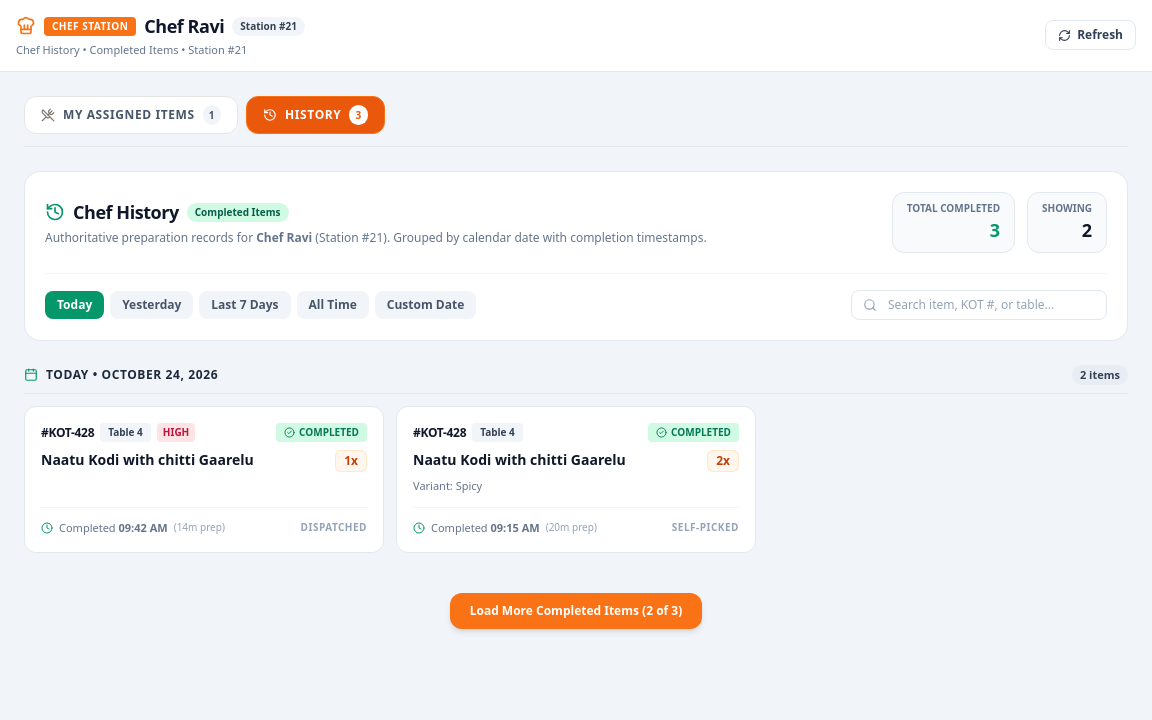
Test case: Chef Station — Date-Wise History Component Suite › displays empty state when no items match search
The width and height of the screenshot is (1152, 720).
In the field with test id "history-search-input": (979, 304) left=851, top=290, right=1107, bottom=320, type "NonExistent"
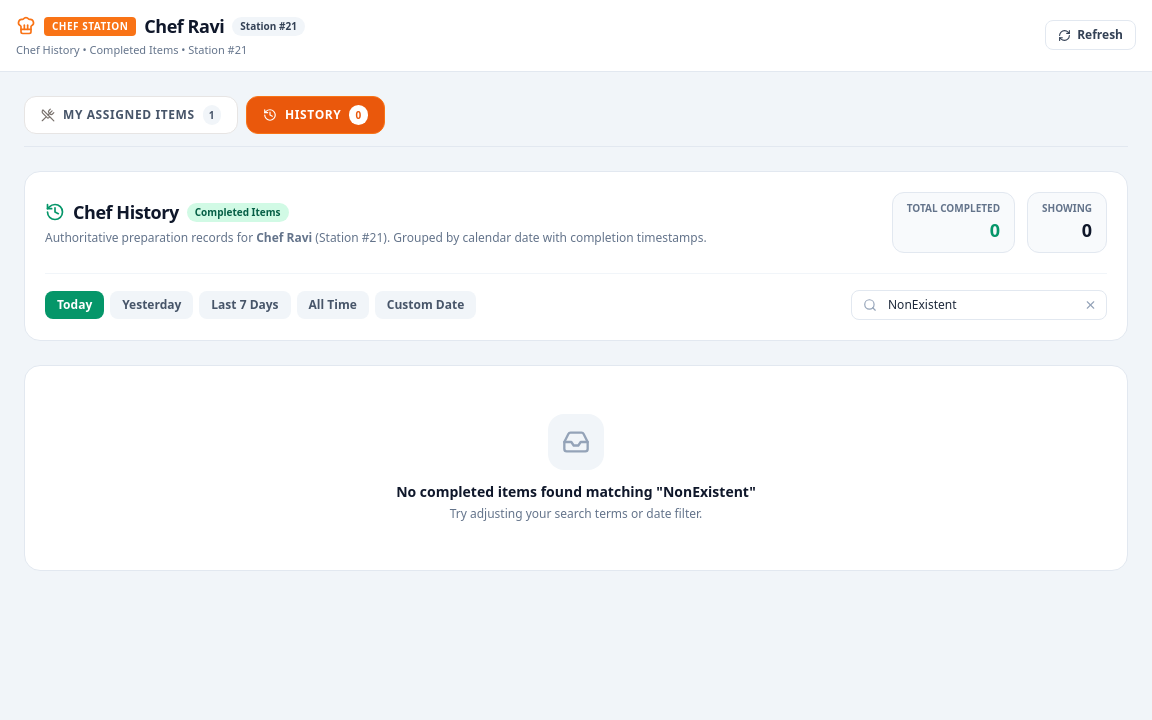
Now the heading "No completed items found matching \"NonExistent\"" is shown, box left=396, top=482, right=756, bottom=500
